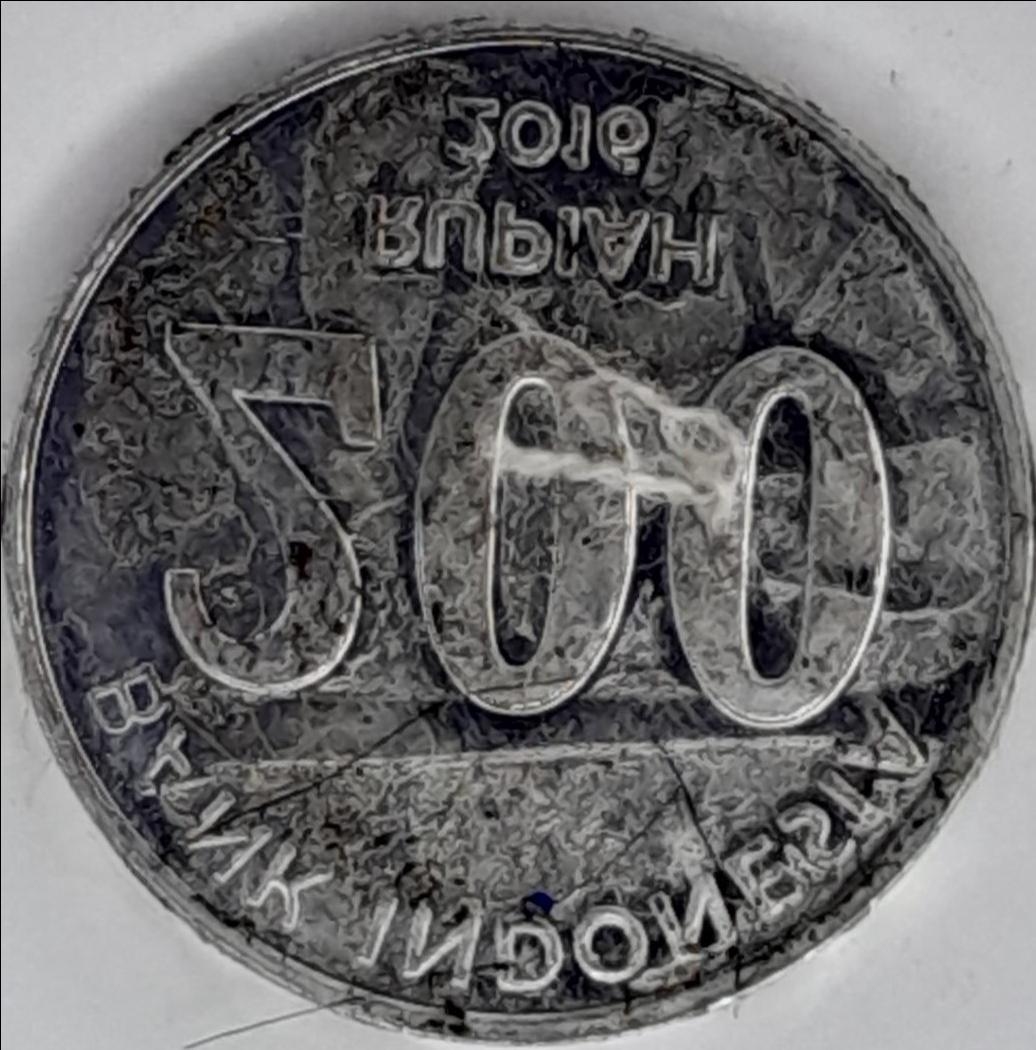coin_200_e2016: (0, 18, 1036, 1050)
